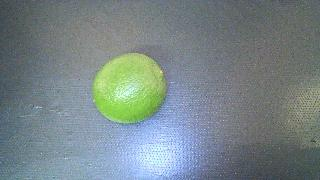EXPORTACION: (93, 53, 166, 124)
